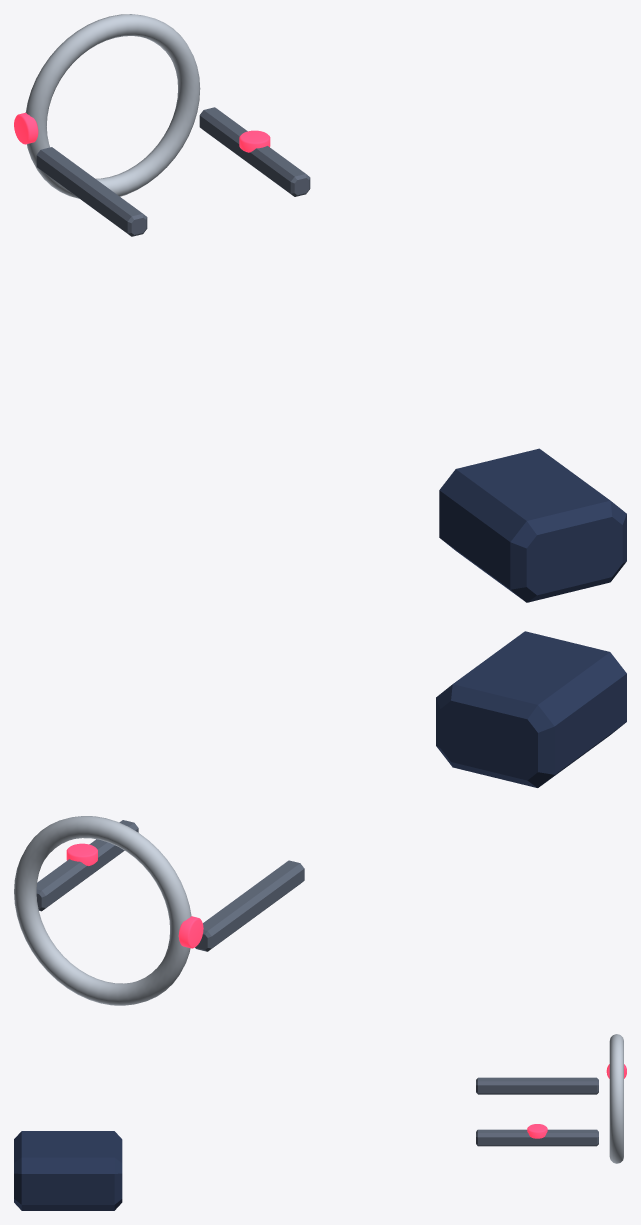
Rendered from tower_filament_peak_s4.glb.
3 views of the same model, one above another, from view 1: azimuth 30°, elevation 25°; view 2: azimuth 150°, elevation 25°; view 3: azimuth 270°, elevation 25° (orthographic). The views are drawn at different scales.
Parts seen in each view (by area): view 1: filament_coupler, filament_aperture_ring, filament_lens_brace_r, filament_lens_brace_l; view 2: filament_coupler, filament_aperture_ring, filament_lens_brace_r, filament_lens_brace_l, filament_up_peak_l3_stud, filament_up_peak_l2_stud; view 3: filament_coupler, filament_lens_brace_r, filament_lens_brace_l, filament_aperture_ring.
Part boxes in pixels (box(x1,y1,x2,y2)): filament_coupler: box(439, 448, 626, 602); filament_aperture_ring: box(25, 14, 200, 198); filament_lens_brace_r: box(36, 147, 147, 236); filament_lens_brace_l: box(199, 107, 310, 196); filament_coupler: box(436, 631, 626, 787); filament_aperture_ring: box(14, 816, 191, 1005); filament_lens_brace_r: box(195, 860, 304, 951); filament_lens_brace_l: box(36, 820, 138, 911); filament_up_peak_l3_stud: box(178, 916, 203, 948); filament_up_peak_l2_stud: box(66, 843, 97, 865); filament_coupler: box(14, 1131, 122, 1210); filament_lens_brace_r: box(476, 1077, 598, 1094); filament_lens_brace_l: box(476, 1129, 598, 1146); filament_aperture_ring: box(609, 1034, 623, 1163).
Size of the model in its own units: 0.389 by 0.4836 by 1.7.
